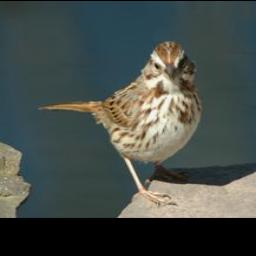Sparrow: (37, 40, 204, 204)
